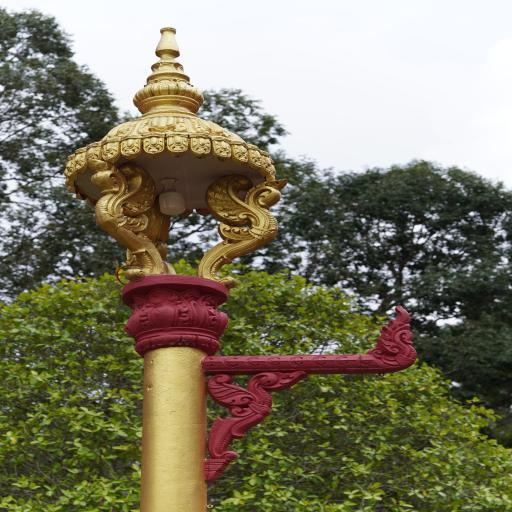la: (141, 289, 193, 330), (173, 286, 211, 330), (197, 291, 229, 332)
ran: (197, 369, 302, 487), (376, 302, 426, 385)
than: (179, 170, 291, 288), (83, 155, 168, 282)
